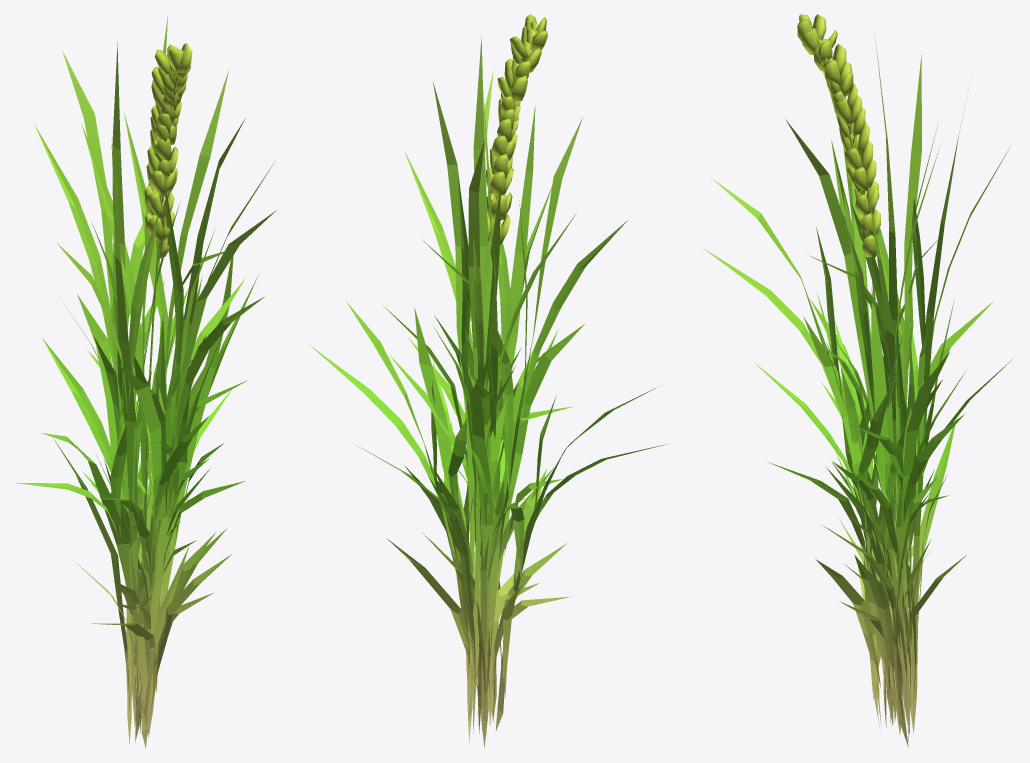
File: Rice8_LOD.fbx
3 renders of one model, left to right at view 1: azimuth 30°, elevation 25°; view 2: azimuth 150°, elevation 25°; view 3: azimuth 270°, elevation 25°, orthographic. The views are drawn at different scales.
Visible parts, largest first — view 1: Rice8_LOD0; view 2: Rice8_LOD0; view 3: Rice8_LOD0.
Boxes of the visible parts, x1,y1,x2,y2 form: Rice8_LOD0: (16,16,276,748); Rice8_LOD0: (308,14,667,748); Rice8_LOD0: (703,14,1012,747).
Size of what is drawn, in the model's own units: 294 by 657 by 258.
Materials: 1 (1 with a texture image).
